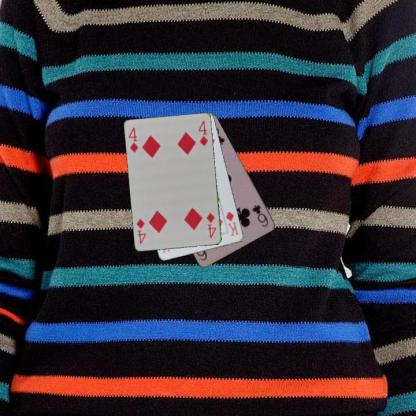4d: (126, 125, 140, 154), (204, 210, 217, 240)
6c: (250, 202, 270, 228)
Kd: (223, 209, 240, 238)
